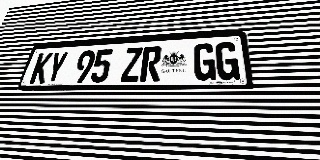5: (90, 49, 113, 83)
9: (73, 50, 96, 83)
G: (215, 42, 240, 80), (194, 43, 216, 81)
K: (29, 52, 53, 84)
R: (140, 46, 162, 82)
Y: (44, 51, 69, 83)
Z: (120, 47, 143, 82)
